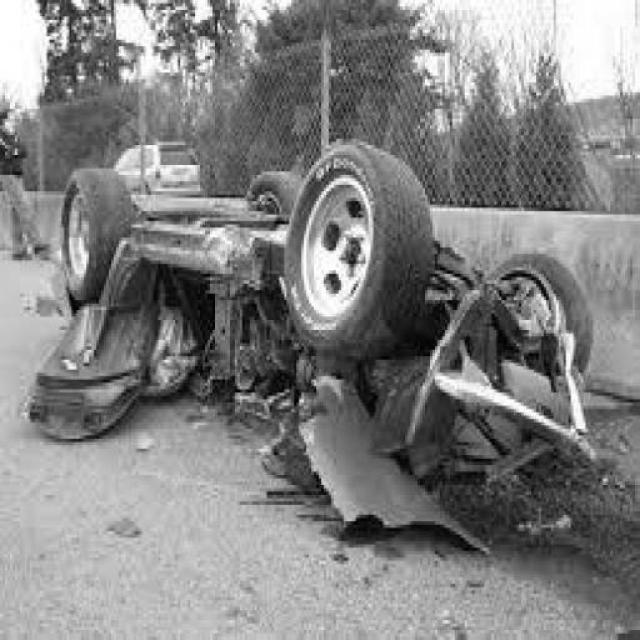crush: (29, 201, 579, 556)
